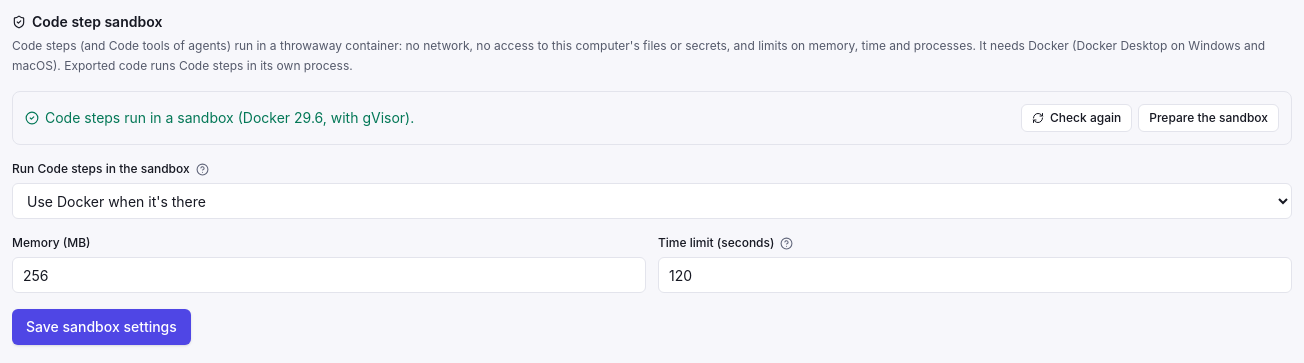
Scenario: Settings → Sandbox › shows Docker and gVisor when they are there, and prepares the image
Expected: the text "Code steps run in a sandbox (Docker 29.6, with gVisor)." is shown, [25,108,414,128]
Click the button with test id "sandbox-prepare": coordinates (1209, 118) [1138,104,1279,132]
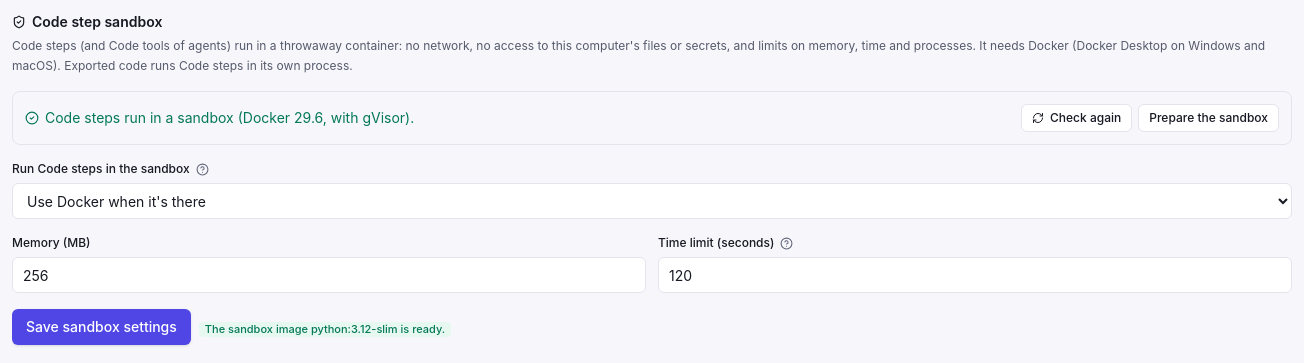
Expected: the text "The sandbox image python:3.12-slim is ready." is shown, [199,322,451,336]
